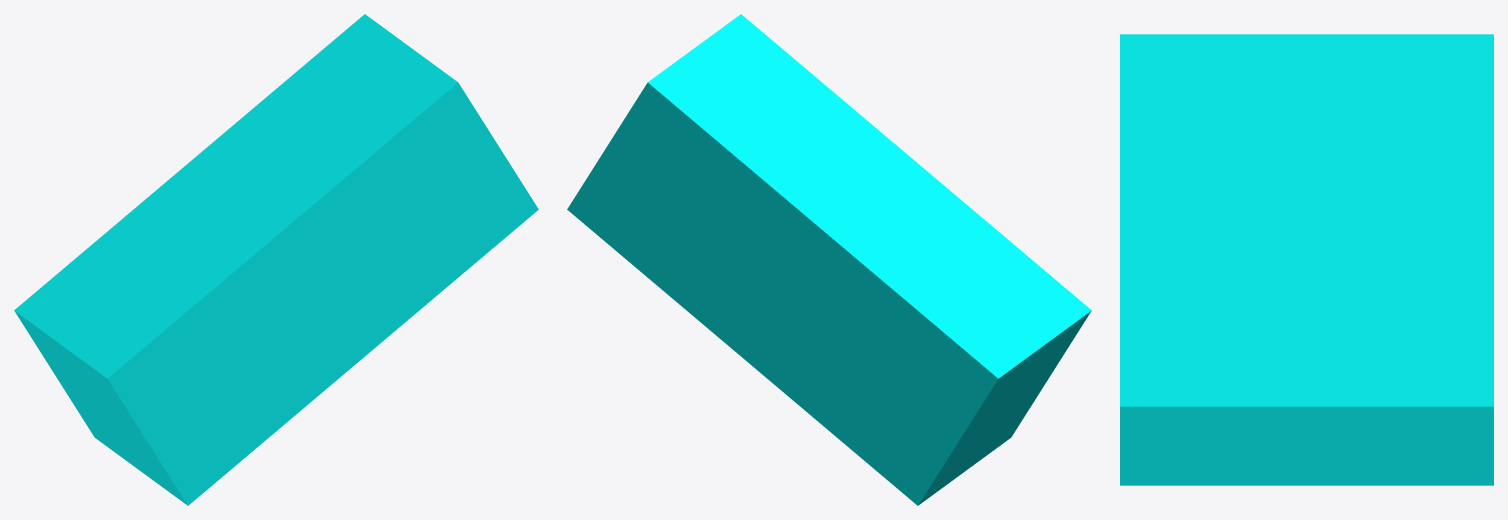
The model's file is 外部模型.glb.
The picture shows the model from 3 angles, left to right: view 1: azimuth 30°, elevation 25°; view 2: azimuth 150°, elevation 25°; view 3: azimuth 270°, elevation 25°; orthographic projection. The views are drawn at different scales.
Visible parts, largest first — view 1: 长方体; view 2: 长方体; view 3: 长方体.
Boxes of the visible parts, box(x1,y1,x2,y2) form: 长方体: box(14, 14, 538, 505); 长方体: box(567, 14, 1091, 505); 长方体: box(1120, 34, 1493, 485).
Bounding box in the file's own units: 107 × 84.49 × 40.
